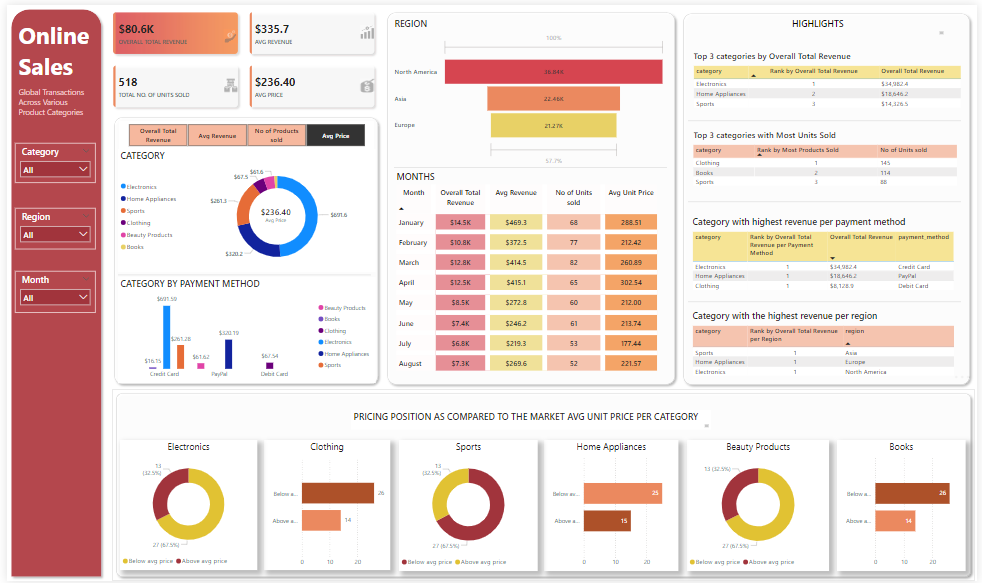

This screenshot's page, from the dashboard's own definition file:
{"tool":"powerbi","page":{"name":"Page 1","canvas":[1400,800],"ordinal":0},"visuals":[{"type":"shape","box":[782.8,6,617.2,793.3],"z":0},{"type":"shape","box":[215.3,225.8,567.5,573.5],"z":1000},{"type":"shape","box":[0,0,204.7,799.4],"z":2000},{"type":"cardVisual","fields":{"Data":["view online_sales_sql.overall_revenue","view online_sales_sql.Avg Revenue","view online_sales_sql.No of Products sold","view online_sales_sql.Avg Price"]},"box":[204.7,0,578.1,225.8],"z":3000},{"type":"donutChart","title":"CATEGORY","fields":{"Y":["view online_sales_sql.Overall Total Revenue"],"Category":["view online_sales_sql.category"]},"box":[230.3,299.6,537.4,255.9],"z":4000},{"type":"clusteredColumnChart","title":"CATEGORY BY PAYMENT METHOD","fields":{"Y":["view online_sales_sql.Overall Total Revenue"],"Category":["view online_sales_sql.payment_method"],"Series":["view online_sales_sql.category"]},"box":[230.3,567.5,537.4,221.3],"z":6000},{"type":"slicer","fields":{"Values":["Metrics..Metrics."]},"box":[233.3,240.9,531.4,58.7],"z":7000},{"type":"funnel","title":"REGION","fields":{"Y":["Sum(view online_sales_sql.total_revenue)"],"Category":["view online_sales_sql.region"]},"box":[802.4,24.1,573.5,314.6],"z":8000},{"type":"slicer","fields":{"Values":["view online_sales_sql.order_date.Variation.Date Hierarchy.Month"]},"box":[18.1,477.2,167.1,78.3],"z":9000},{"type":"slicer","fields":{"Values":["view online_sales_sql.category"]},"box":[18.1,289,167.1,78.3],"z":10000},{"type":"slicer","fields":{"Values":["view online_sales_sql.region"]},"box":[18.1,385.4,167.1,76.8],"z":11000},{"type":"textbox","box":[18.1,24.1,167.1,140],"z":12000},{"type":"textbox","box":[18.1,164.1,167.1,76.8],"z":13000},{"type":"shape","box":[230.3,555.5,526.9,12],"z":14000},{"type":"pivotTable","title":"MONTHS","fields":{"Rows":["view online_sales_sql.order_date.Variation.Date Hierarchy.Month"],"Values":["view online_sales_sql.Overall Total Revenue","view online_sales_sql.Avg Revenue","view online_sales_sql.No of Units sold","view online_sales_sql.Avg Unit Price"]},"box":[806.9,343.2,569,423],"z":15000},{"type":"shape","box":[806.9,325.2,569,27.1],"z":16000},{"type":"cardVisual","fields":{"Data":["view online_sales_sql.Overall Total Revenue"]},"box":[499.8,400.4,120.4,73.8],"z":16500}]}

Visuals, with their boxes on the page's 1400x800 design canvas (x1, y1, x2, y2). These are canvas units, not pixel positions in the 982x583 screenshot, which may show the page scaled, cropped or inside an application window:
shape: (783,6,1400,799)
shape: (215,226,783,799)
shape: (0,0,205,799)
cardVisual - view online_sales_sql.overall_revenue x view online_sales_sql.Avg Revenue: (205,0,783,226)
"CATEGORY" donutChart: (230,300,768,556)
"CATEGORY BY PAYMENT METHOD" clusteredColumnChart: (230,568,768,789)
slicer - Metrics..Metrics.: (233,241,765,300)
"REGION" funnel: (802,24,1376,339)
slicer - view online_sales_sql.order_date.Variation.Date Hierarchy.Month: (18,477,185,556)
slicer - view online_sales_sql.category: (18,289,185,367)
slicer - view online_sales_sql.region: (18,385,185,462)
textbox: (18,24,185,164)
textbox: (18,164,185,241)
shape: (230,556,757,568)
"MONTHS" pivotTable: (807,343,1376,766)
shape: (807,325,1376,352)
cardVisual - view online_sales_sql.Overall Total Revenue: (500,400,620,474)
